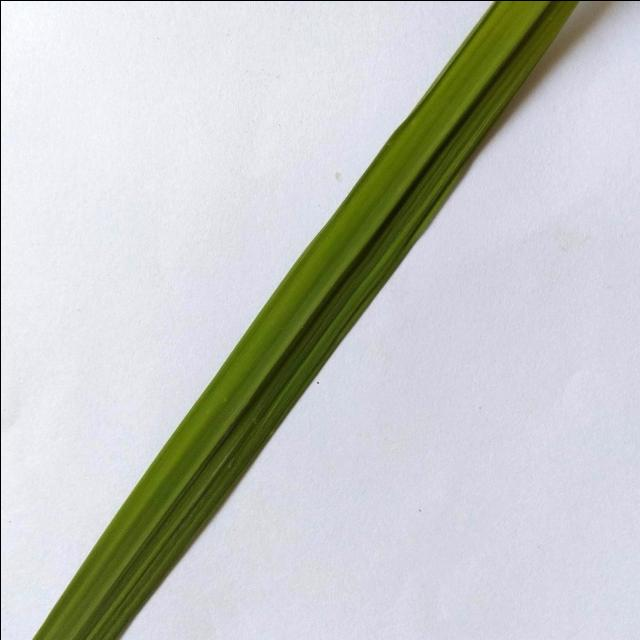healthy: (12, 0, 586, 640)
